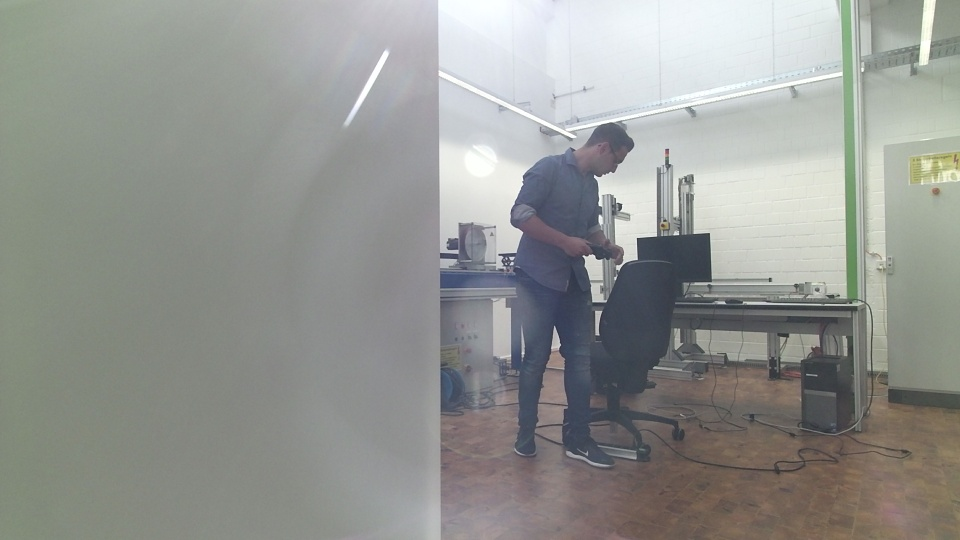Person: (491, 110, 637, 473)
